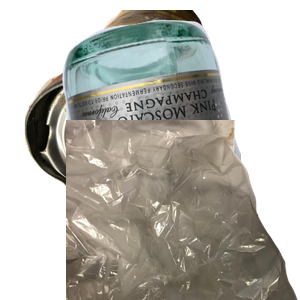glass: (60, 17, 300, 197)
metal: (22, 10, 251, 190)
plastic: (84, 191, 242, 300)
trash: (66, 120, 300, 300)
